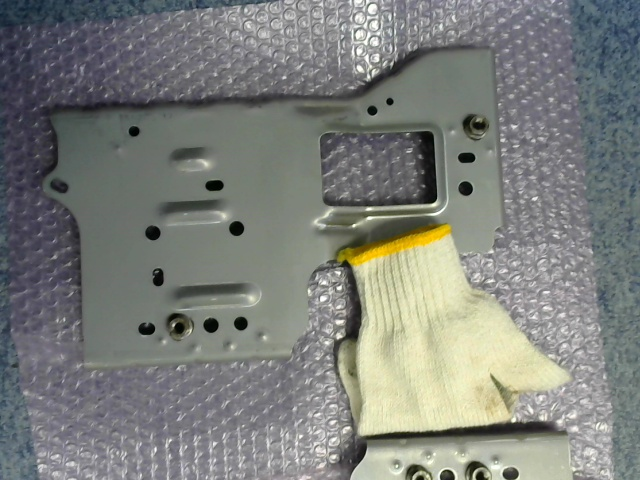dog: (462, 111, 489, 140), (167, 313, 193, 341)
